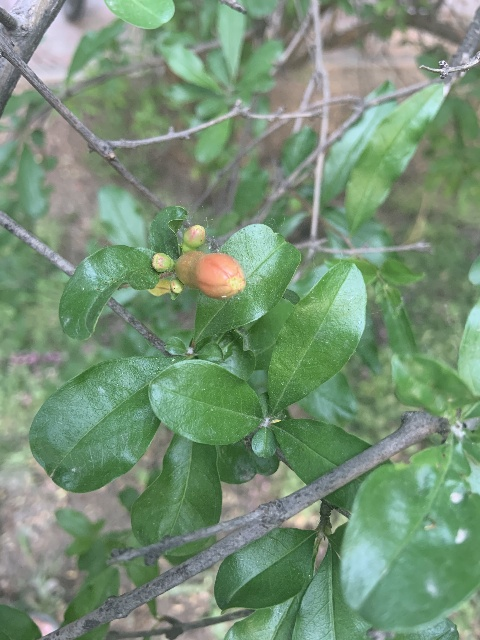bud: (175, 251, 245, 300), (182, 224, 205, 252), (150, 252, 174, 272), (170, 278, 184, 293)
